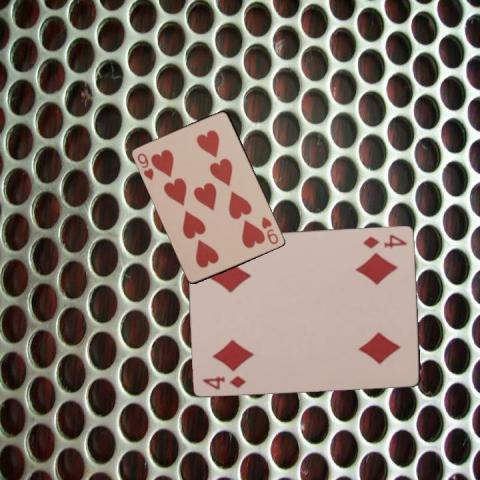4d: (360, 231, 408, 250), (200, 372, 247, 390)
9h: (259, 214, 280, 246), (135, 150, 155, 182)
